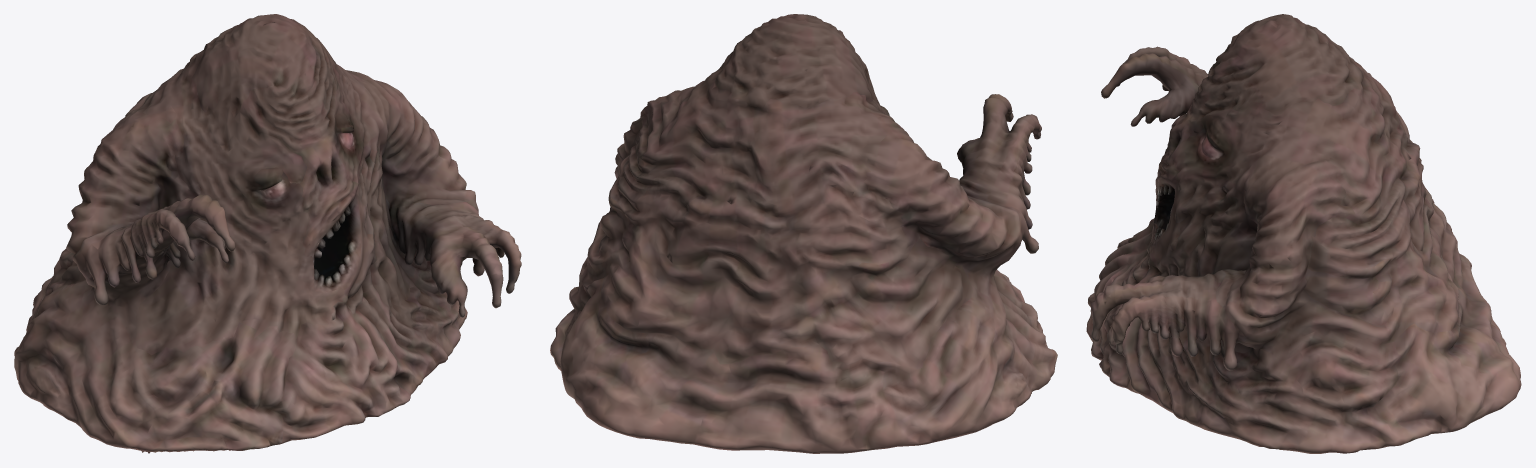
The model's file is MZ4250 - Lemure_2 2025.glb.
The picture shows the model from 3 angles, left to right: view 1: azimuth 30°, elevation 25°; view 2: azimuth 150°, elevation 25°; view 3: azimuth 270°, elevation 25°; orthographic projection.
Visible parts, largest first — view 1: ORGANIC BASE SPHERE.001; view 2: ORGANIC BASE SPHERE.001; view 3: ORGANIC BASE SPHERE.001.
Part boxes in pixels (left/top/right/bottom): ORGANIC BASE SPHERE.001: left=14, top=14, right=521, bottom=453; ORGANIC BASE SPHERE.001: left=550, top=14, right=1057, bottom=453; ORGANIC BASE SPHERE.001: left=1086, top=14, right=1521, bottom=453.
Bounding box in the file's own units: 60.36 × 45.92 × 52.68.
1 material, 1 textured.
